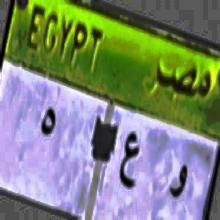5: (37, 95, 57, 149)
ain: (117, 128, 140, 197)
waw: (164, 150, 190, 205)
